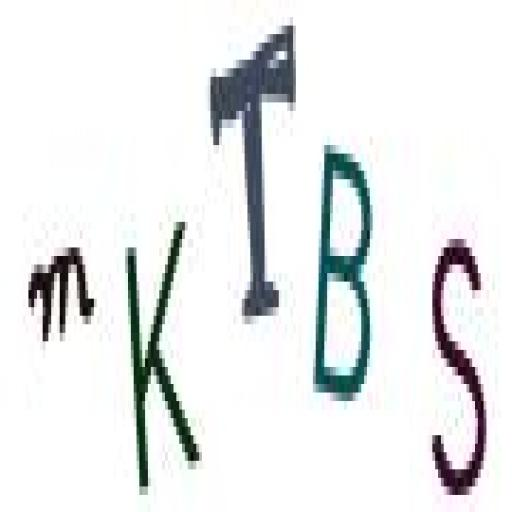B: (315, 134, 387, 426)
K: (119, 204, 208, 496)
S: (426, 216, 499, 512)
T: (203, 9, 299, 347)
m: (24, 233, 98, 362)
